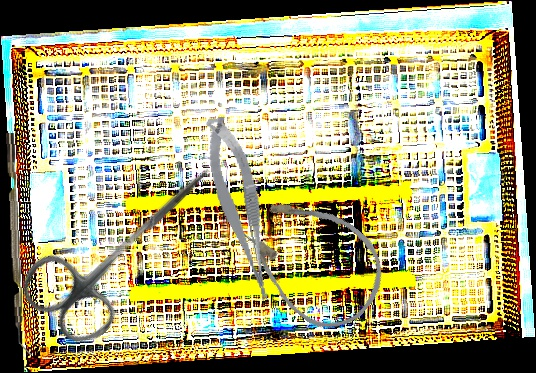Cannula: (221, 171, 402, 346)
Chopper: (6, 132, 33, 356)
Iris Scissors: (11, 131, 240, 356)
Micro Scissor: (201, 113, 277, 306)
